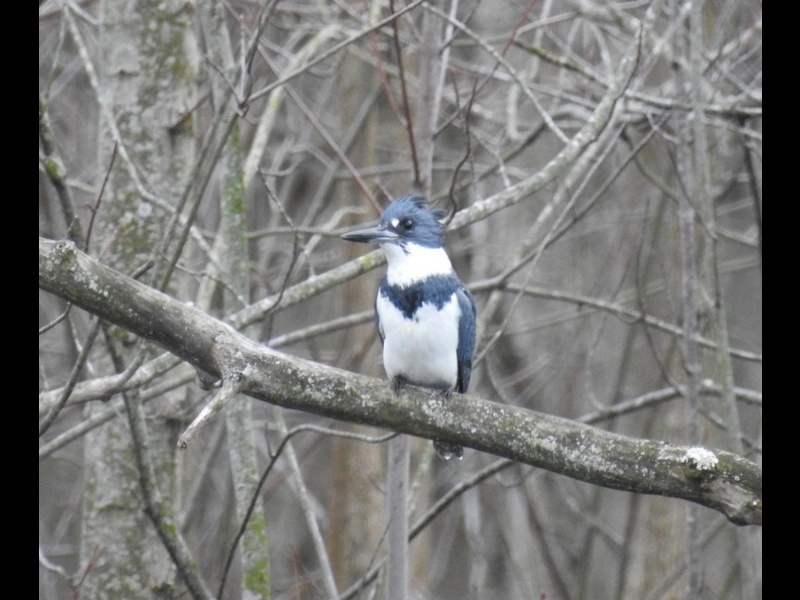kingfisher: (338, 192, 478, 396)
